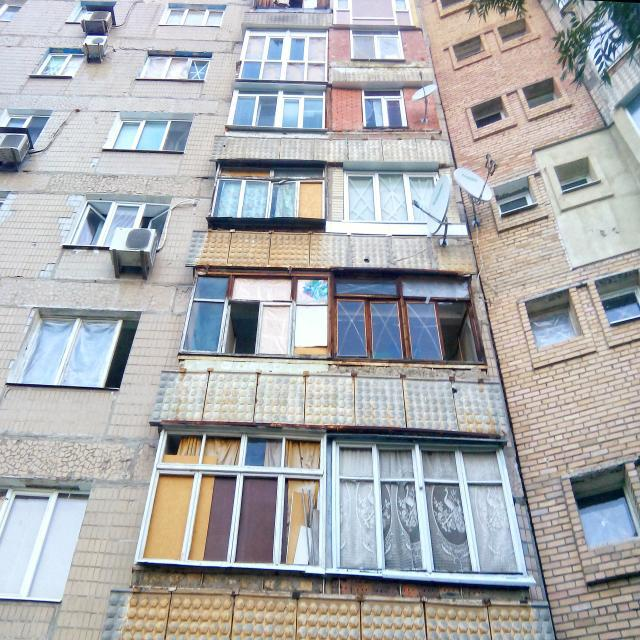Window: (192, 280, 326, 350), (340, 280, 462, 354), (161, 439, 320, 472), (29, 322, 120, 376), (221, 169, 322, 216), (336, 454, 497, 476), (350, 176, 418, 219), (235, 95, 322, 124), (84, 203, 162, 226), (116, 122, 190, 146), (143, 58, 208, 76), (366, 94, 401, 125), (268, 34, 305, 60), (354, 35, 398, 55), (166, 10, 222, 24), (610, 293, 637, 321), (41, 56, 77, 74), (501, 193, 528, 216), (10, 115, 46, 128), (478, 112, 500, 128), (532, 91, 554, 107), (562, 177, 588, 189), (2, 4, 21, 20), (244, 64, 258, 78)
